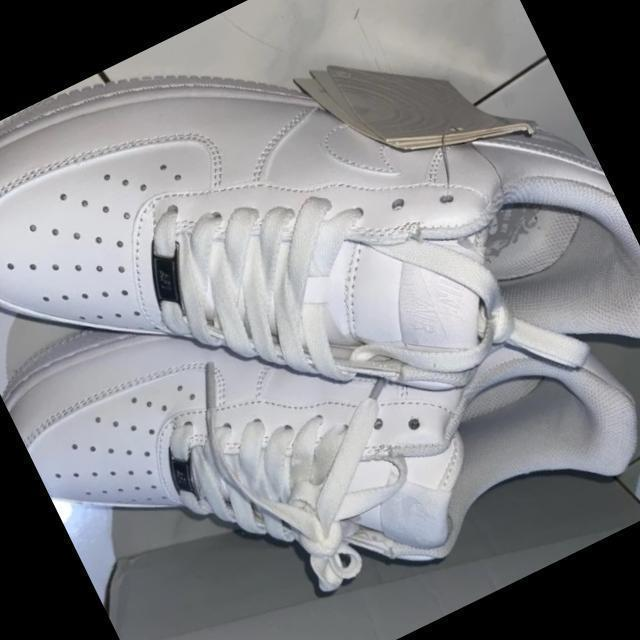nike original air force: (0, 0, 640, 597), (0, 122, 640, 640)
